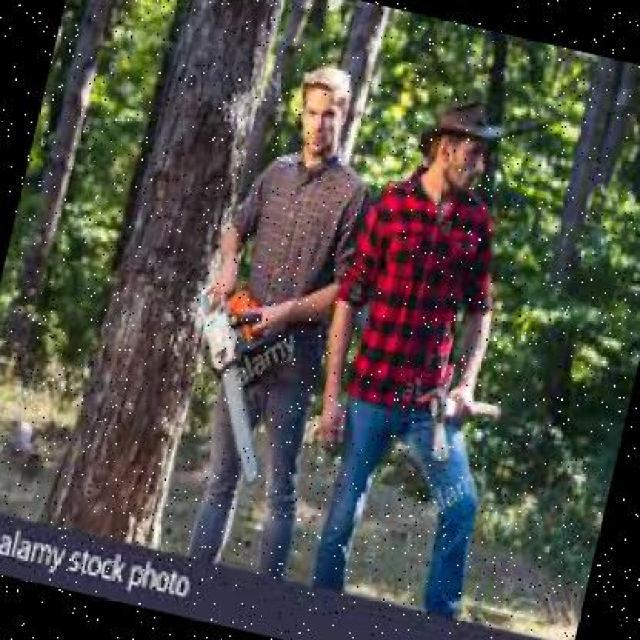poacher: (349, 93, 571, 550), (166, 63, 379, 526)
